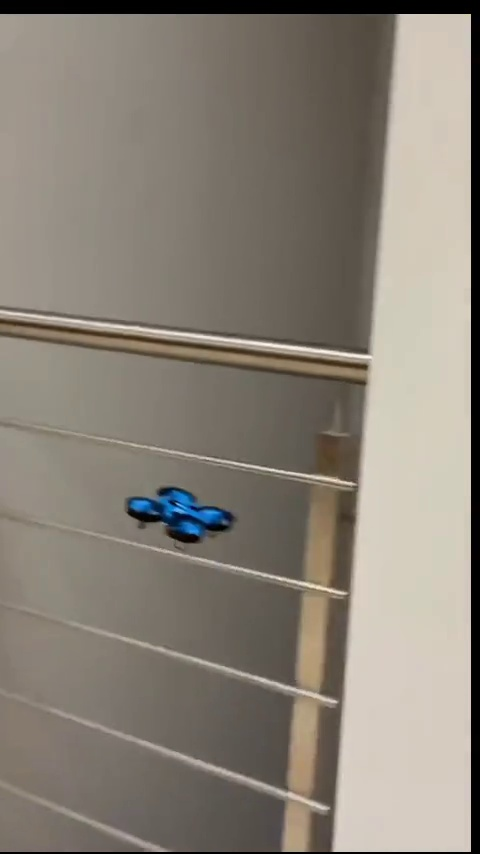drone: (127, 486, 239, 550)
